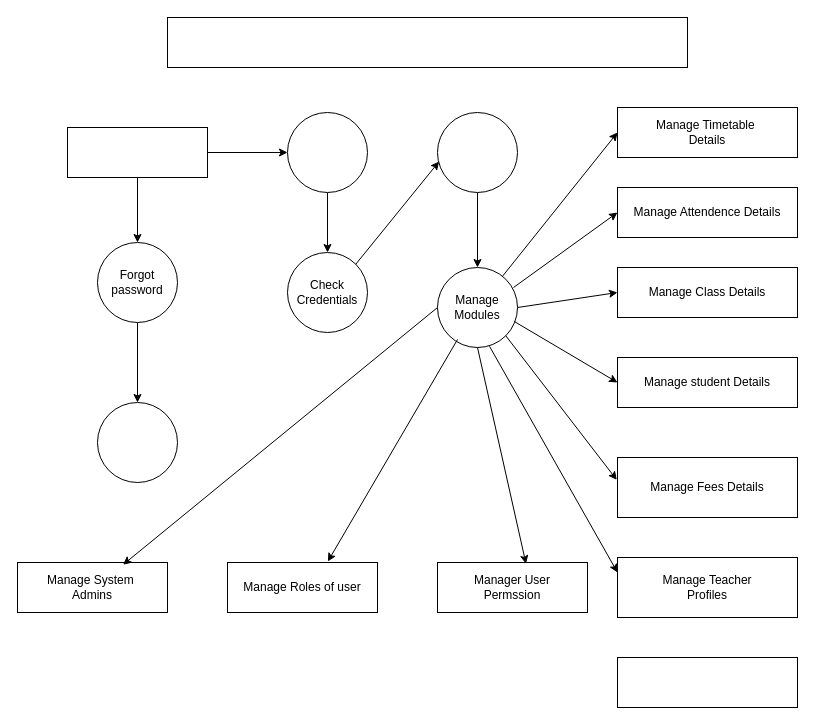
This 815x725 diagram has some shape labels left out. Here are the shapes that lost their labels. From the top down, the centre of each, then its label:
(427,42): Student Information System
(137,152): Admin
(327,152): Login to System
(477,152): Check Roles of Access
(137,442): Send Email to user
(707,682): Manage Report
